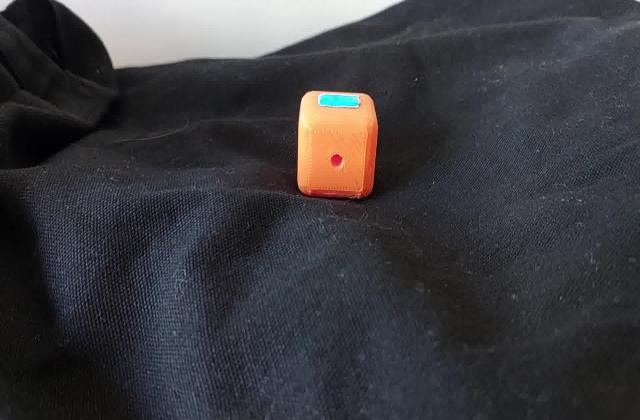blue: (324, 98, 355, 104)
cube: (294, 88, 384, 202)
